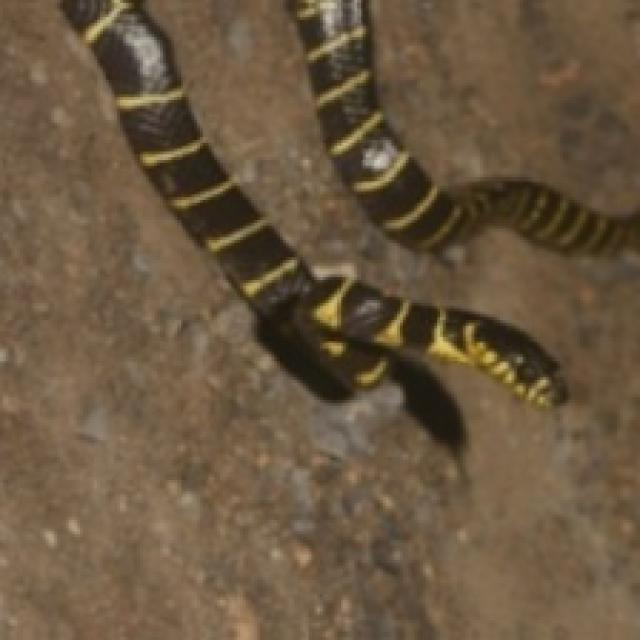mangrove cat snake: (63, 0, 566, 406), (294, 0, 637, 254)
